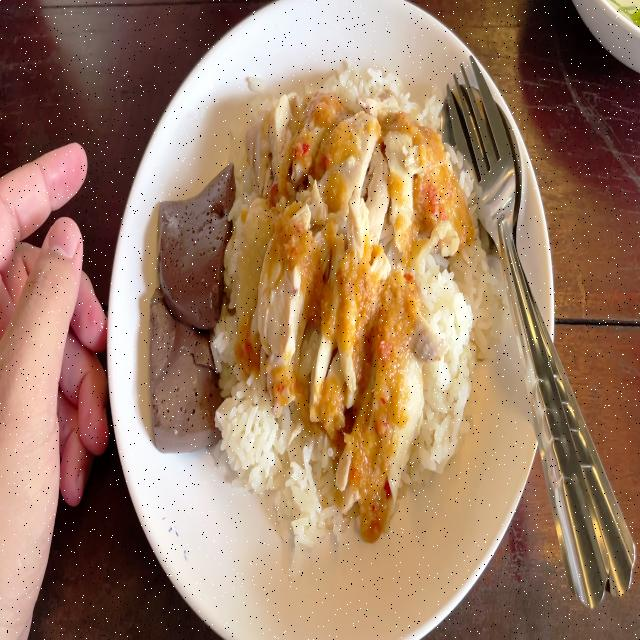boiled_chicken: (234, 110, 439, 446)
boiled_chicken_blood_jelly: (160, 167, 234, 336), (146, 294, 222, 457)
chicken_rice: (147, 64, 497, 565)
